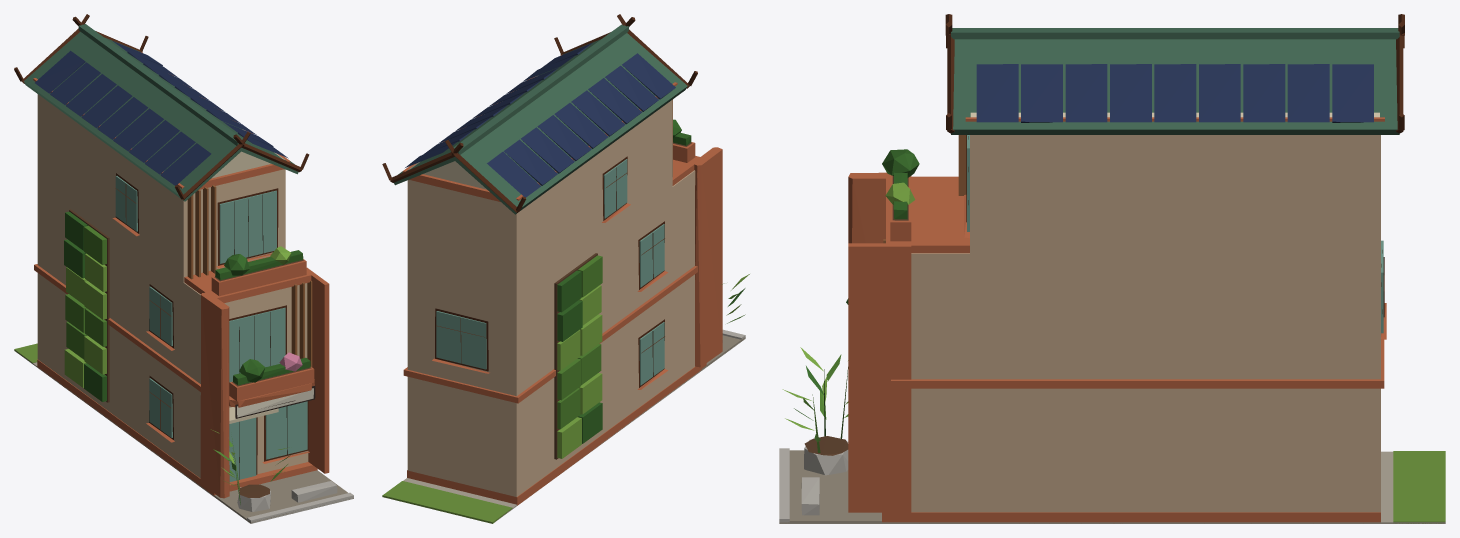
File: bay1_left.glb
The picture shows the model from 3 angles, left to right: view 1: azimuth 30°, elevation 25°; view 2: azimuth 150°, elevation 25°; view 3: azimuth 270°, elevation 25°; orthographic projection. The views are drawn at different scales.
Parts seen in each view (by area): view 1: body; view 2: body; view 3: body.
Boxes of the visible parts, x1,y1,x2,y2 form: body: (14, 14, 353, 523); body: (382, 14, 749, 523); body: (779, 14, 1445, 523).
Bounding box in the file's own units: 5.24 × 12.39 × 15.9.
